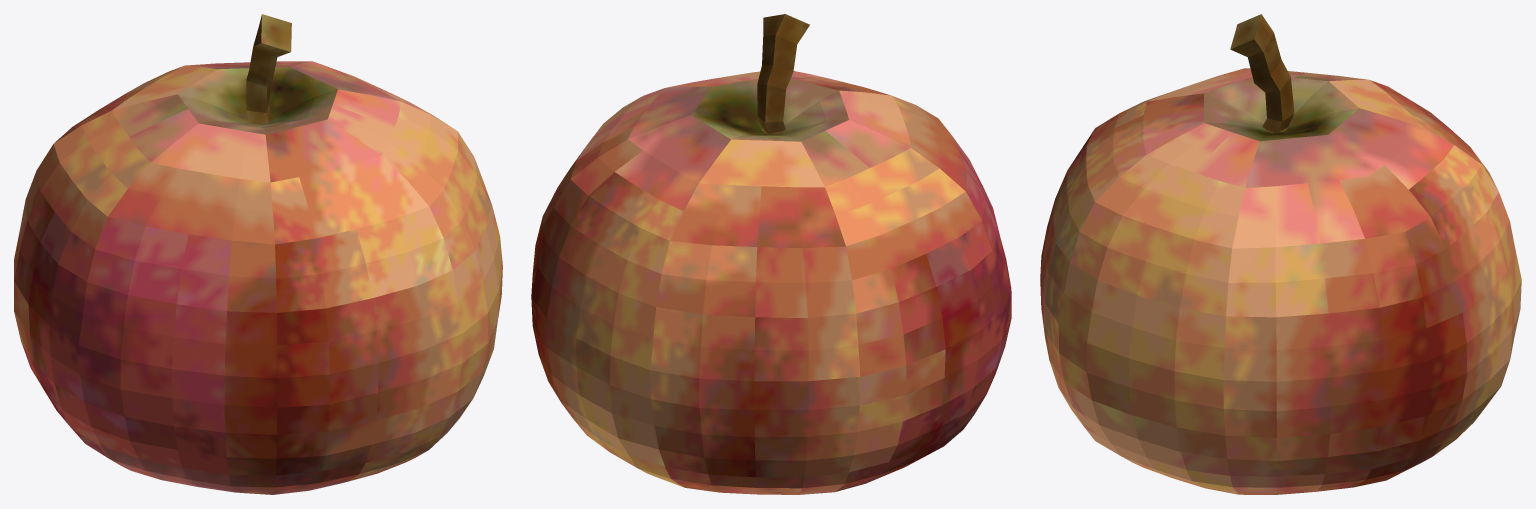
File: Apple.fbx
3 views of the same model, side by side, from view 1: azimuth 30°, elevation 25°; view 2: azimuth 150°, elevation 25°; view 3: azimuth 270°, elevation 25° (orthographic).
Parts seen in each view (by area): view 1: Cylinder.001; view 2: Cylinder.001; view 3: Cylinder.001.
Part boxes in pixels (box(x1,y1,x2,y2)): Cylinder.001: box(14, 14, 502, 494); Cylinder.001: box(531, 14, 1011, 494); Cylinder.001: box(1040, 14, 1521, 494).
Size of the model in its own units: 20.44 by 20.44 by 20.44.
1 material, 1 textured.
